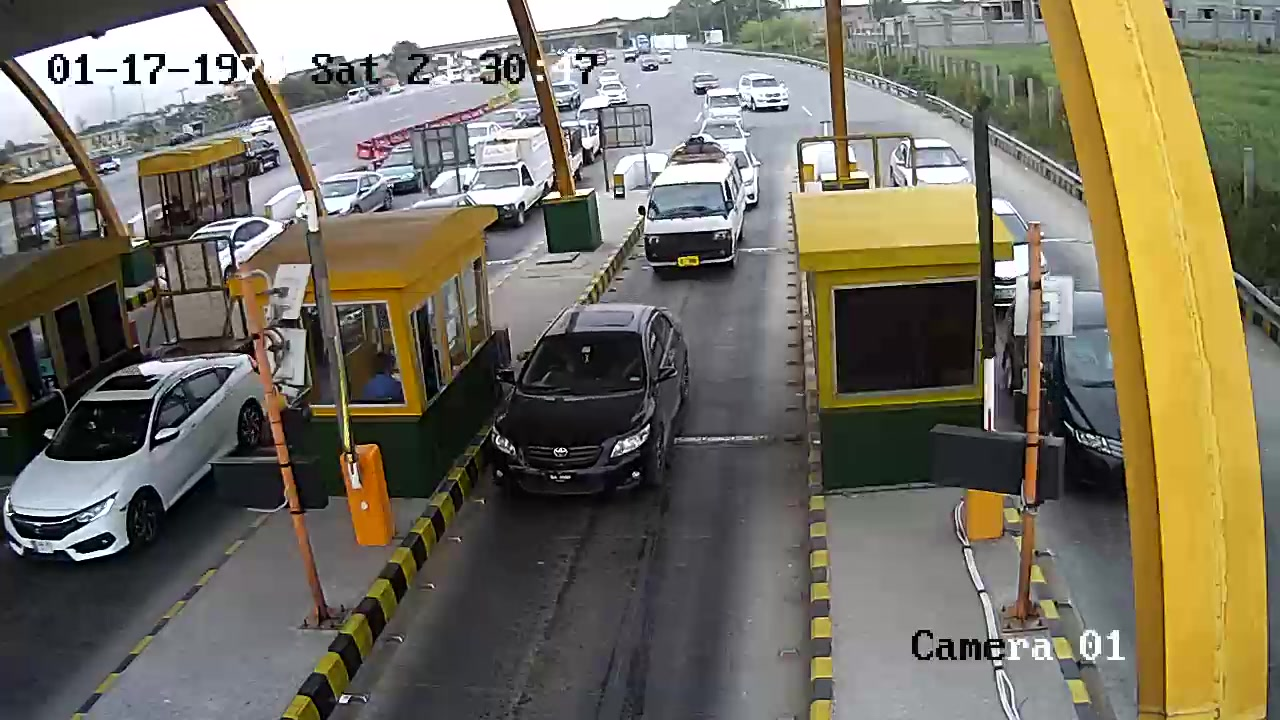F1: (483, 294, 705, 496)
